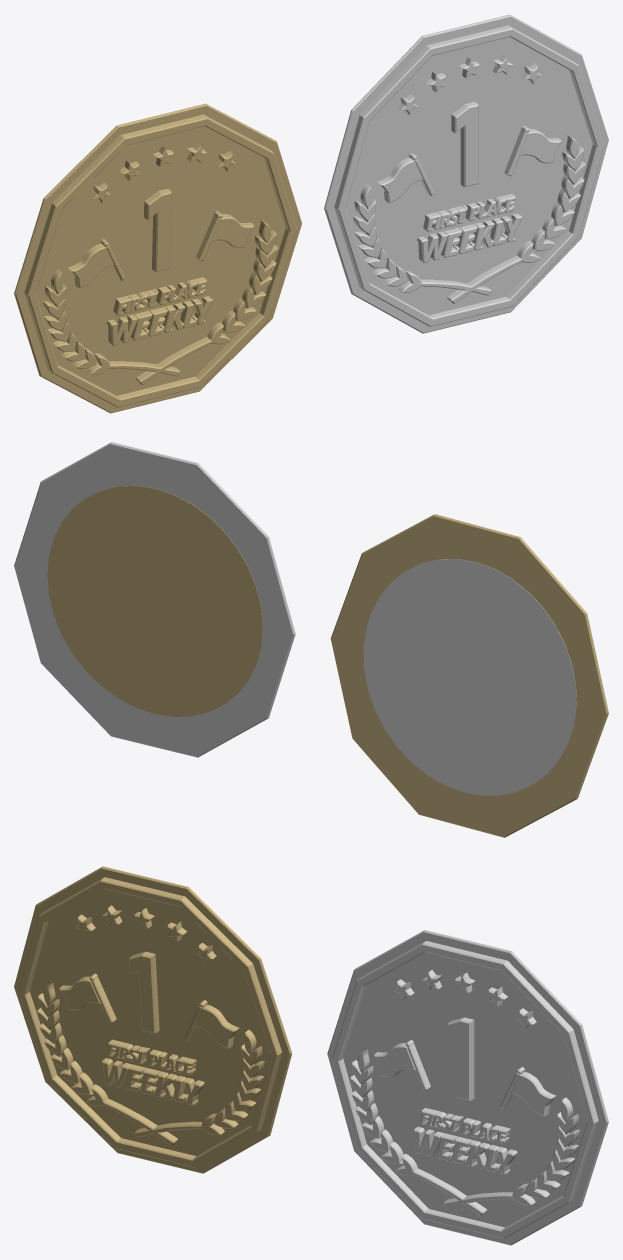
3 views of the same model, one above another, from view 1: azimuth 30°, elevation 25°; view 2: azimuth 150°, elevation 25°; view 3: azimuth 330°, elevation 25° (orthographic).
Parts seen in each view (by area): view 1: medal (×2); view 2: medal (×2); view 3: medal (×2).
Part boxes in pixels (bbox=[...]): medal (×2): bbox=[14, 14, 608, 413]; medal (×2): bbox=[14, 442, 608, 837]; medal (×2): bbox=[14, 866, 608, 1245].
Size of the model in its own units: 848 by 409 by 44.11.
